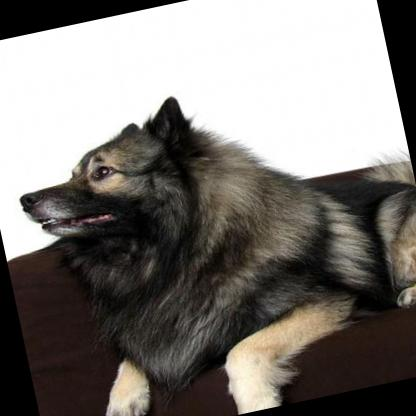keeshond: (3, 49, 416, 416)
